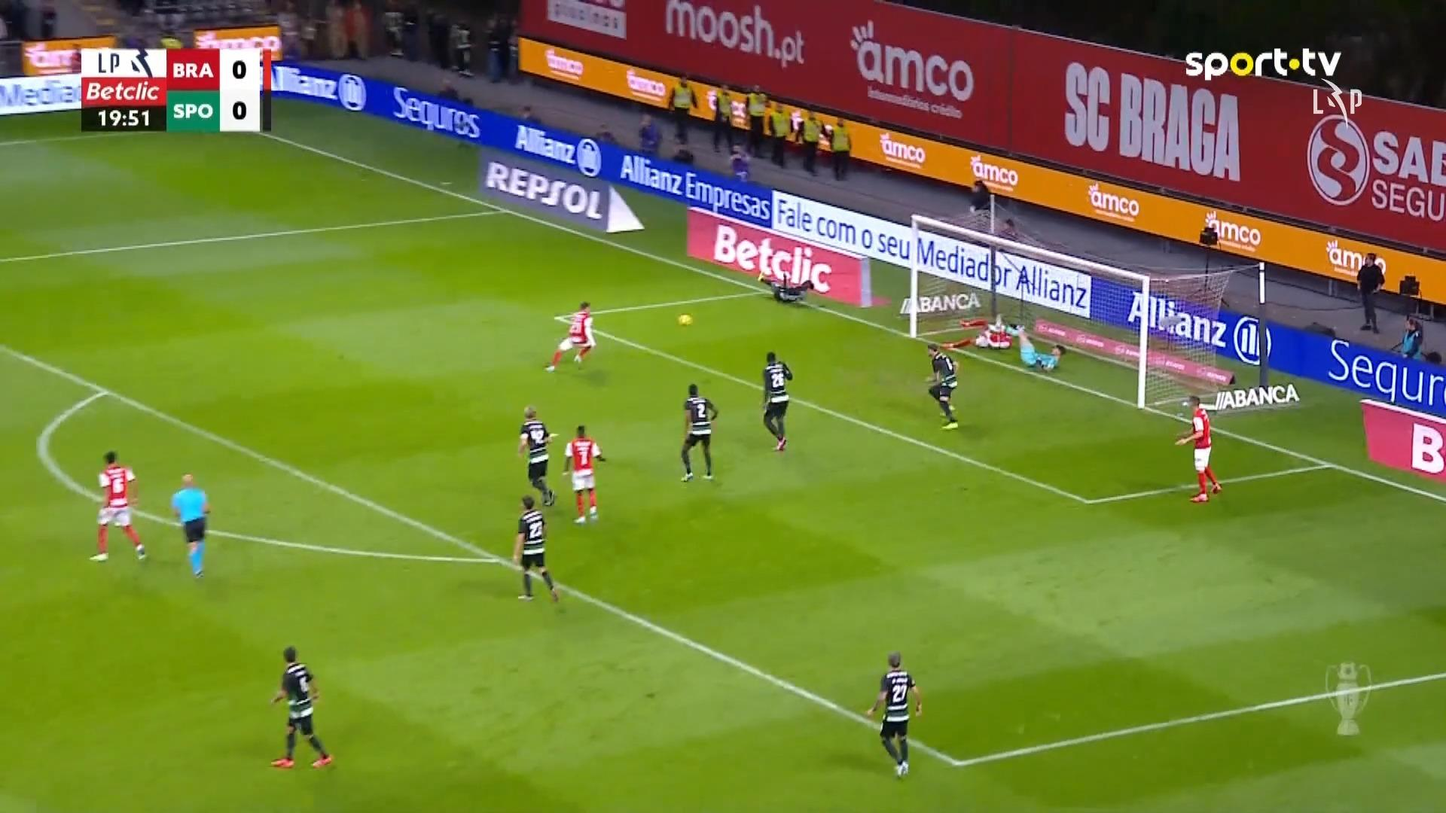ball: (677, 313, 692, 326)
goalkeeper: (1014, 324, 1066, 372)
player: (269, 644, 334, 768), (865, 650, 922, 778), (89, 449, 148, 562), (1173, 394, 1222, 503), (511, 495, 560, 601), (561, 424, 606, 523), (517, 403, 558, 507), (679, 382, 718, 481), (543, 300, 596, 372), (760, 350, 792, 451), (940, 313, 1024, 350), (924, 342, 959, 429), (756, 273, 815, 305), (975, 313, 1017, 349)
referee: (170, 472, 212, 578)
